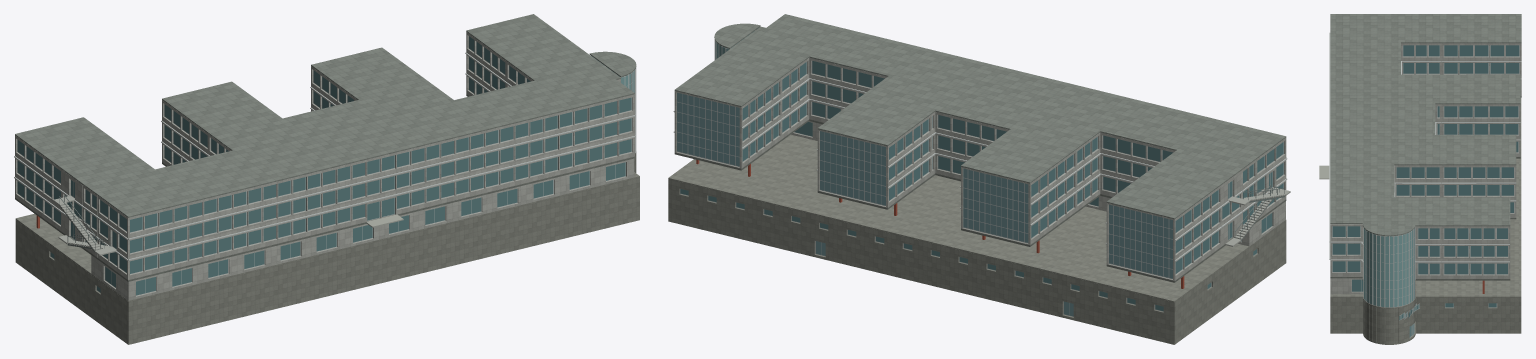
3 renders of one model, left to right at view 1: azimuth 30°, elevation 25°; view 2: azimuth 150°, elevation 25°; view 3: azimuth 270°, elevation 25°, orthographic. The views are drawn at different scales.
Visible parts, largest first — view 1: student__roof, student__silverPanel, student__podiumStone, student__sideglass, student__frame, student__soffit, student__stair-f2; view 2: student__podiumStone, student__roof, student__silverPanel, student__glass, student__sideglass, student__frame, student__soffit, student__stair-f1; view 3: student__roof, student__sideglass, student__podiumStone, student__silverPanel, student__frame, student__liftglass, student__soffit.
Boxes of the visible parts, x1,y1,x2,y2 form: student__roof: (15,14,636,217); student__silverPanel: (15,32,634,300); student__podiumStone: (15,151,639,344); student__sideglass: (17,36,631,295); student__frame: (14,36,636,295); student__soffit: (15,94,634,281); student__stair-f2: (53,195,107,255); student__podiumStone: (668,134,1286,344); student__roof: (674,14,1286,219); student__silverPanel: (674,57,1286,280); student__glass: (677,92,1172,316); student__sideglass: (680,61,1283,311); student__frame: (673,30,1287,316); student__soffit: (674,119,1286,282); student__stair-f1: (1225,187,1282,246); student__roof: (1330,14,1521,236); student__sideglass: (1332,45,1519,320); student__podiumStone: (1330,98,1521,344); student__silverPanel: (1330,43,1521,296); student__frame: (1329,32,1521,337); student__liftglass: (1364,228,1414,307); student__soffit: (1330,96,1521,280).
Bounding box in the file's own units: 98.4 × 21.85 × 36.55.
13 materials, 4 textured.
